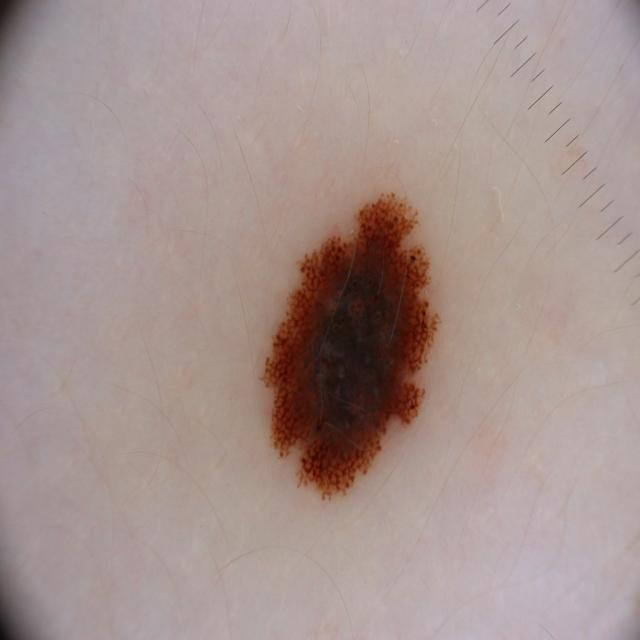Benign: (252, 187, 448, 511)
